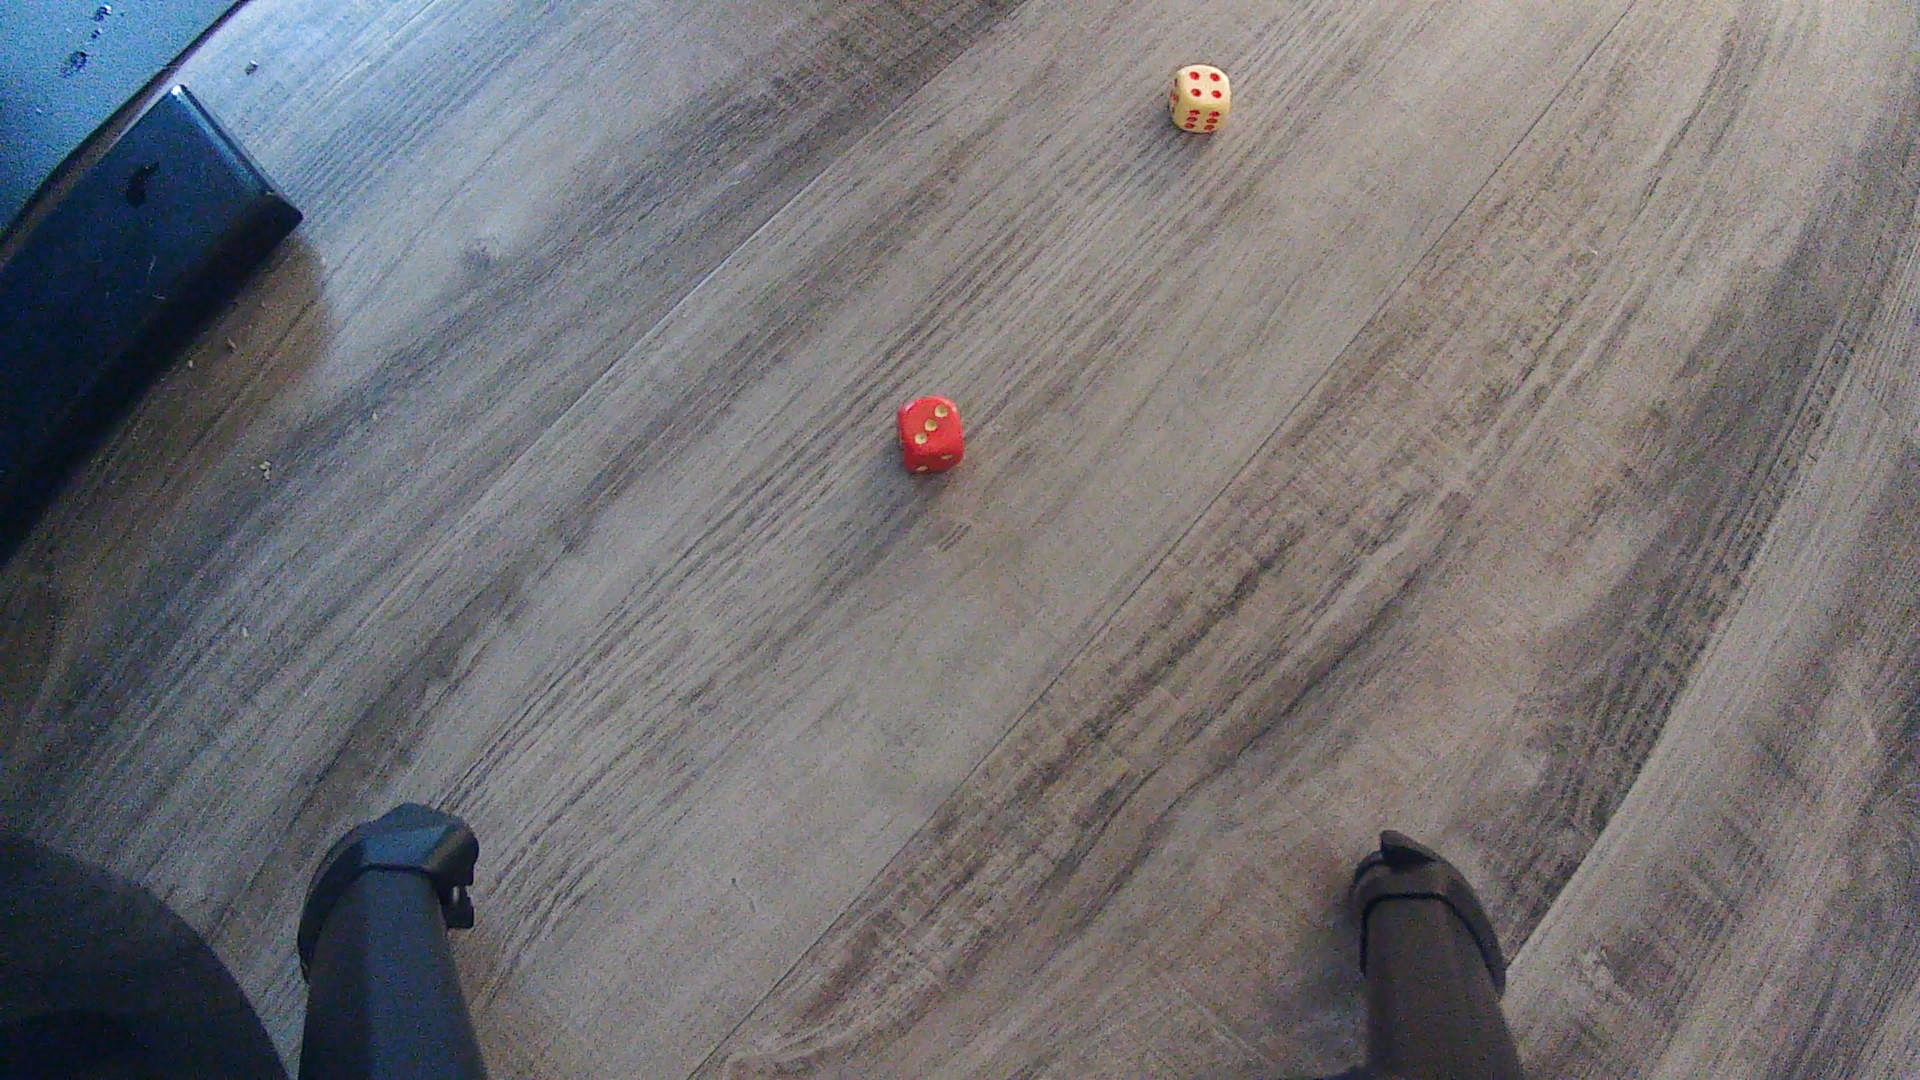die: (897, 396, 967, 476), (1168, 65, 1232, 135)
